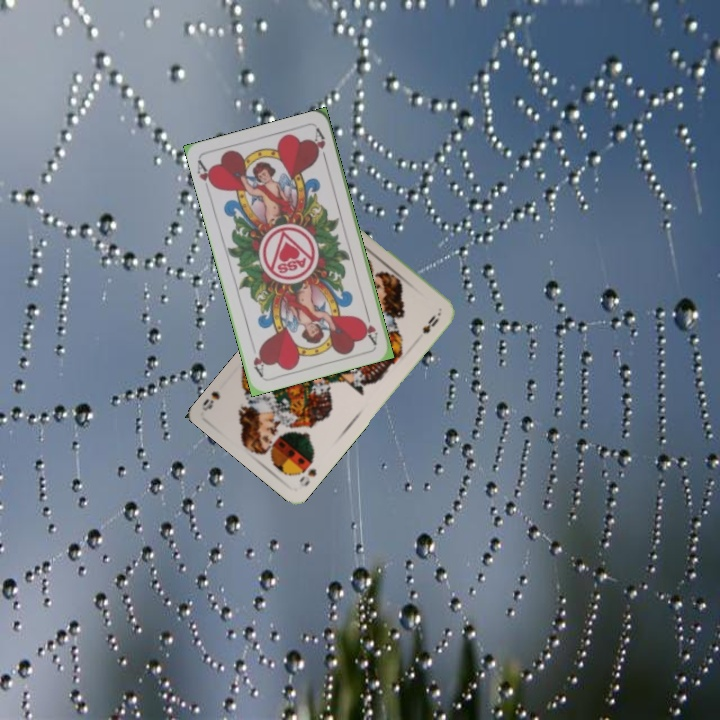HA: (193, 156, 218, 196), (359, 306, 381, 347)
SO: (295, 464, 319, 489)
